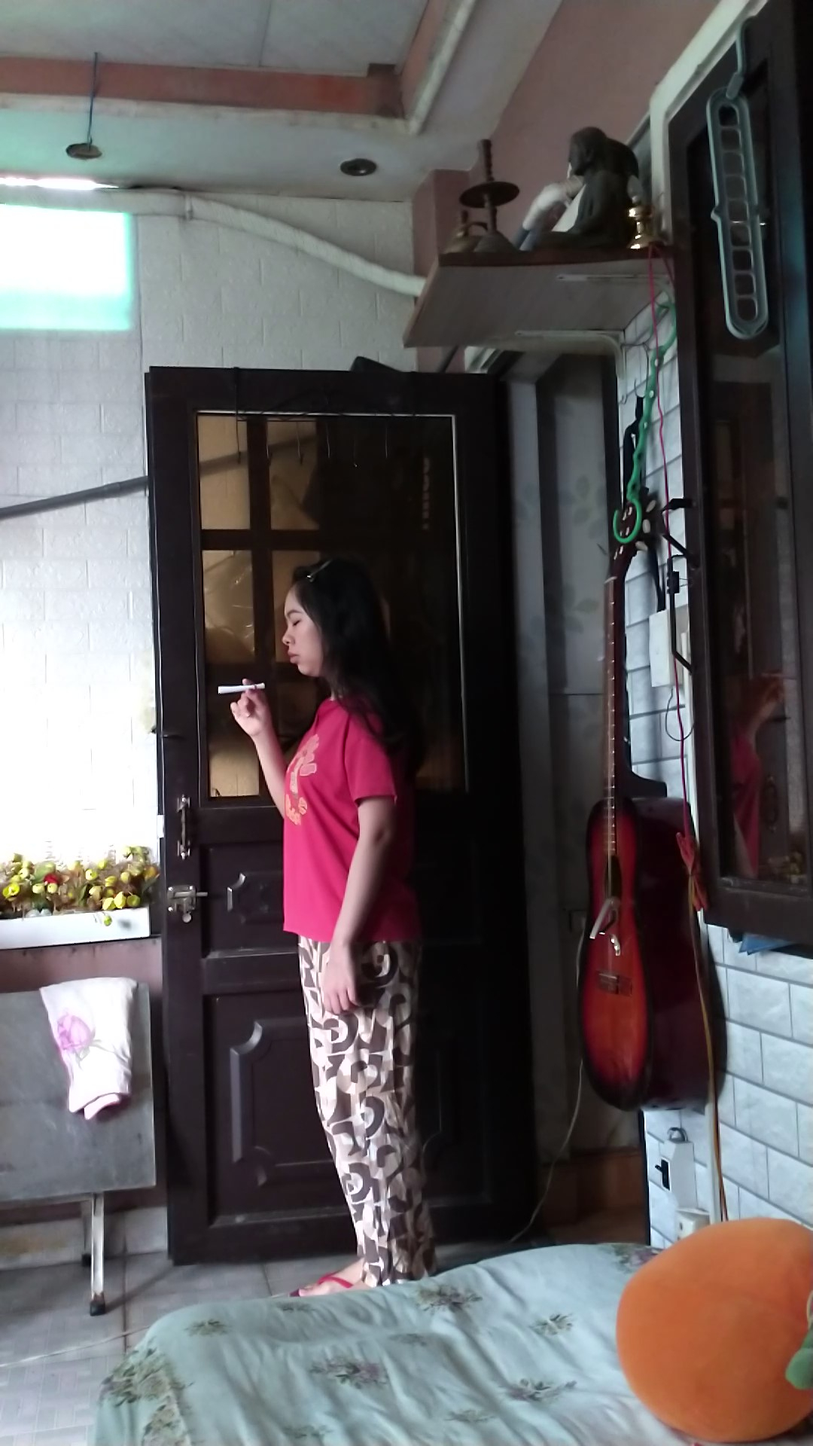cigarette: (213, 681, 247, 700)
person: (222, 554, 425, 1265)
